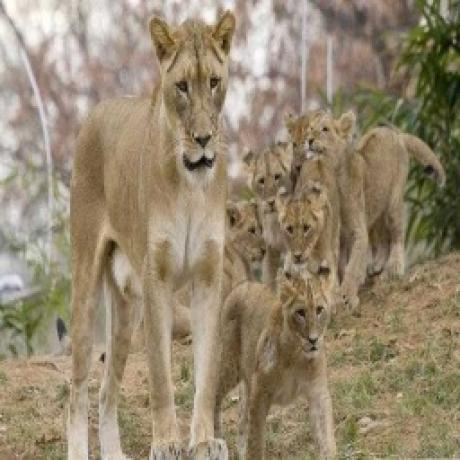Lion: (59, 5, 241, 460), (212, 262, 341, 460), (305, 110, 447, 276), (273, 192, 330, 273), (220, 205, 268, 286), (245, 144, 290, 214), (279, 110, 308, 175)
